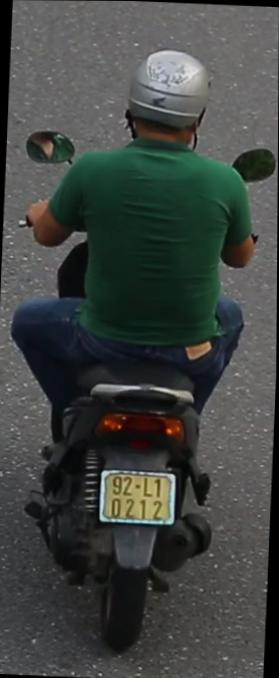LP: (95, 465, 179, 530)
helmet: (119, 41, 215, 161)
